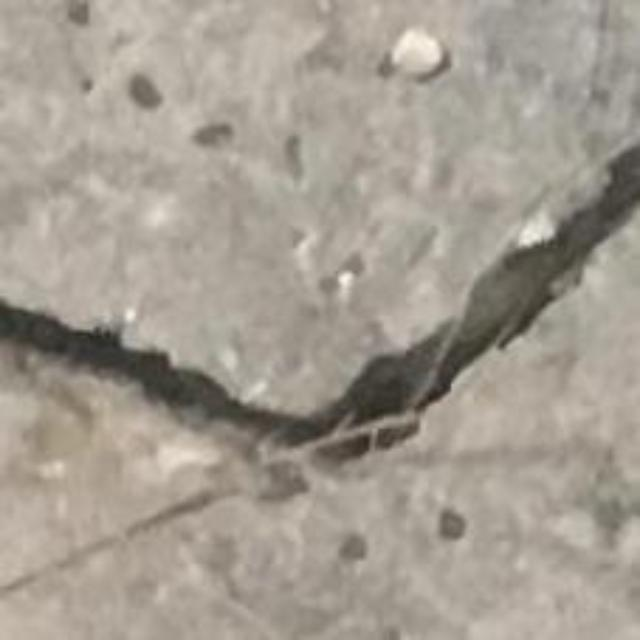crack: (0, 144, 639, 468)
